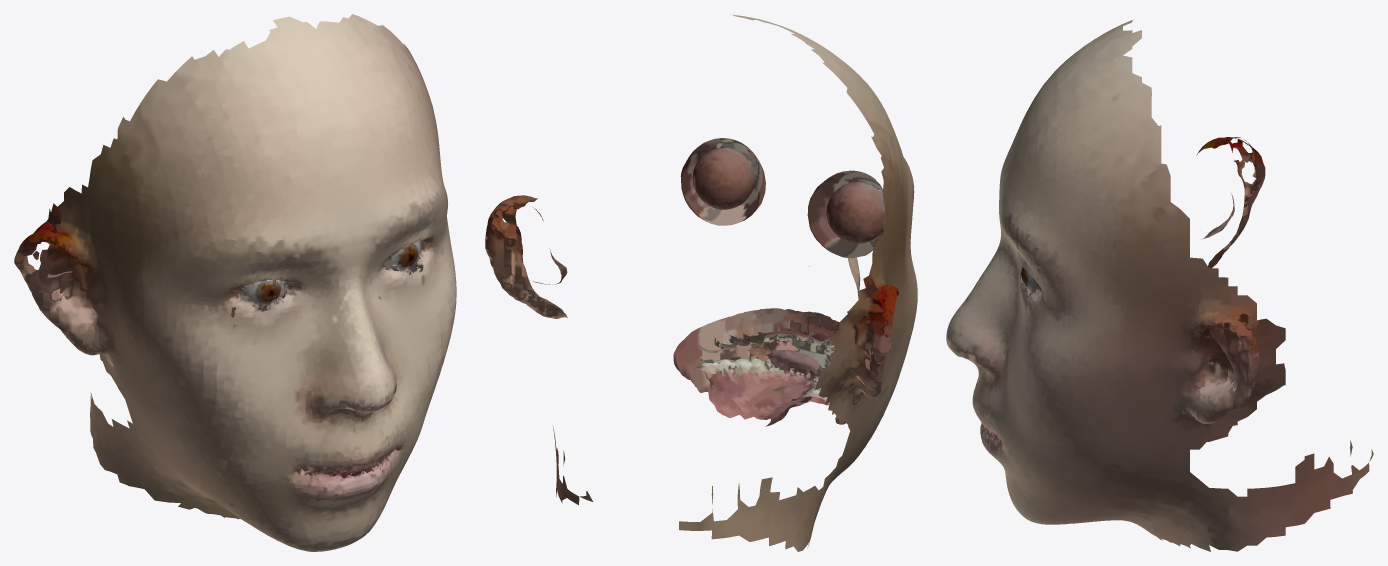
File: face_mesh_poisson_fimg1.glb
3 views of the same model, side by side, from view 1: azimuth 30°, elevation 25°; view 2: azimuth 150°, elevation 25°; view 3: azimuth 270°, elevation 25° (orthographic).
Visible parts, largest first — view 1: face_mesh_poisson_fimg1.ply; view 2: face_mesh_poisson_fimg1.ply; view 3: face_mesh_poisson_fimg1.ply.
Boxes of the visible parts, x1,y1,x2,y2 form: face_mesh_poisson_fimg1.ply: [14, 14, 456, 551]; face_mesh_poisson_fimg1.ply: [485, 14, 917, 551]; face_mesh_poisson_fimg1.ply: [946, 19, 1373, 551].
Size of the model in its own units: 2.19 by 2.56 by 2.
